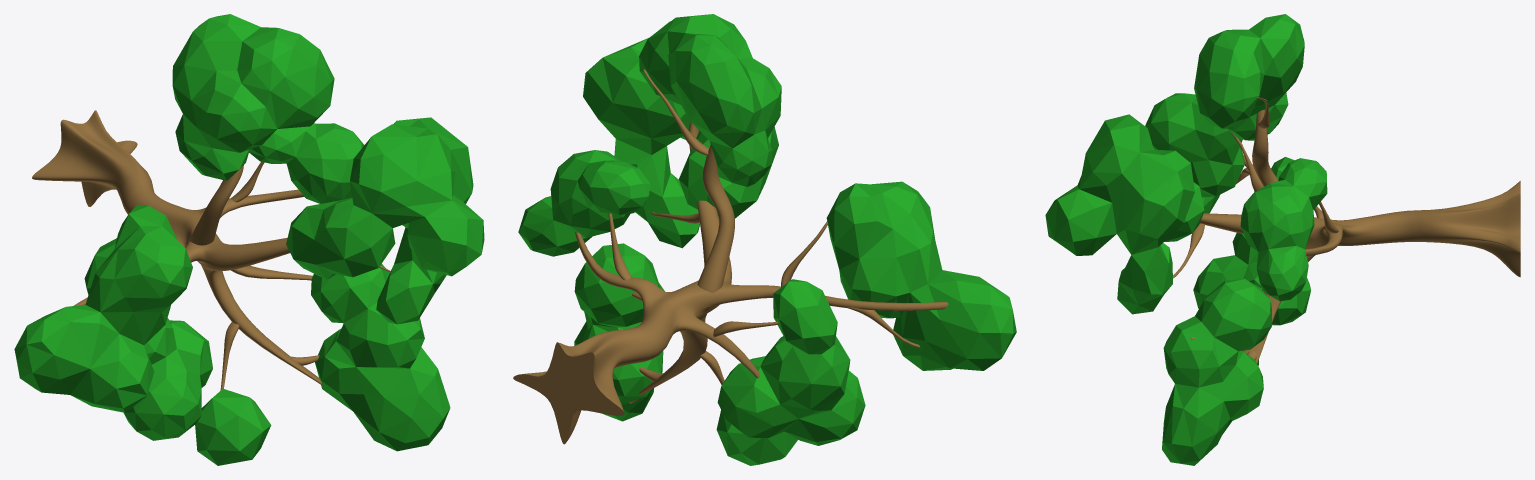
3 renders of one model, left to right at view 1: azimuth 30°, elevation 25°; view 2: azimuth 150°, elevation 25°; view 3: azimuth 270°, elevation 25°, orthographic. The views are drawn at different scales.
Visible parts, largest first — view 1: MeshBody3, MeshBody1, MeshBody2, MeshBody4, Body5, MeshBody6, MeshBody5, MeshBody7; view 2: Body5, MeshBody1, MeshBody6, MeshBody2, MeshBody3, MeshBody5, MeshBody4, MeshBody7; view 3: MeshBody3, MeshBody4, Body5, MeshBody2, MeshBody5, MeshBody1, MeshBody6.
Boxes of the visible parts, left/top/right/bottom form: MeshBody3: left=286, top=117, right=484, bottom=324; MeshBody1: left=14, top=205, right=192, bottom=412; MeshBody2: left=172, top=14, right=334, bottom=180; MeshBody4: left=311, top=264, right=450, bottom=451; Body5: left=32, top=110, right=390, bottom=390; MeshBody6: left=84, top=238, right=212, bottom=440; MeshBody5: left=249, top=123, right=364, bottom=203; MeshBody7: left=195, top=388, right=271, bottom=465; Body5: left=513, top=69, right=948, bottom=444; MeshBody1: left=826, top=181, right=1016, bottom=370; MeshBody6: left=717, top=279, right=865, bottom=445; MeshBody2: left=639, top=14, right=781, bottom=186; MeshBody3: left=583, top=21, right=778, bottom=248; MeshBody5: left=518, top=150, right=650, bottom=256; MeshBody4: left=574, top=243, right=664, bottom=421; MeshBody7: left=716, top=410, right=797, bottom=465; MeshBody3: left=1045, top=114, right=1204, bottom=314; MeshBody4: left=1162, top=279, right=1271, bottom=465; Body5: left=1173, top=97, right=1520, bottom=363; MeshBody2: left=1194, top=14, right=1304, bottom=140; MeshBody5: left=1240, top=158, right=1327, bottom=301; MeshBody1: left=1145, top=93, right=1244, bottom=213; MeshBody6: left=1193, top=157, right=1310, bottom=325.
Bounding box in the file's own units: 462 × 445 × 493.
